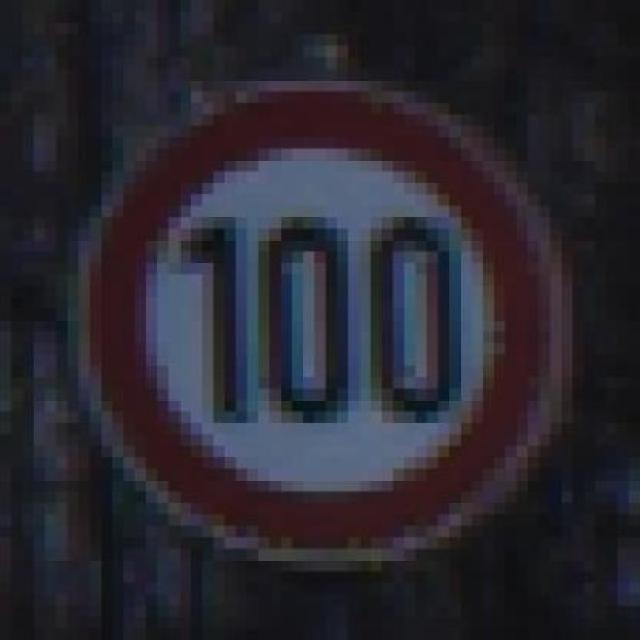forb_speed_over_100: (92, 86, 560, 557)
